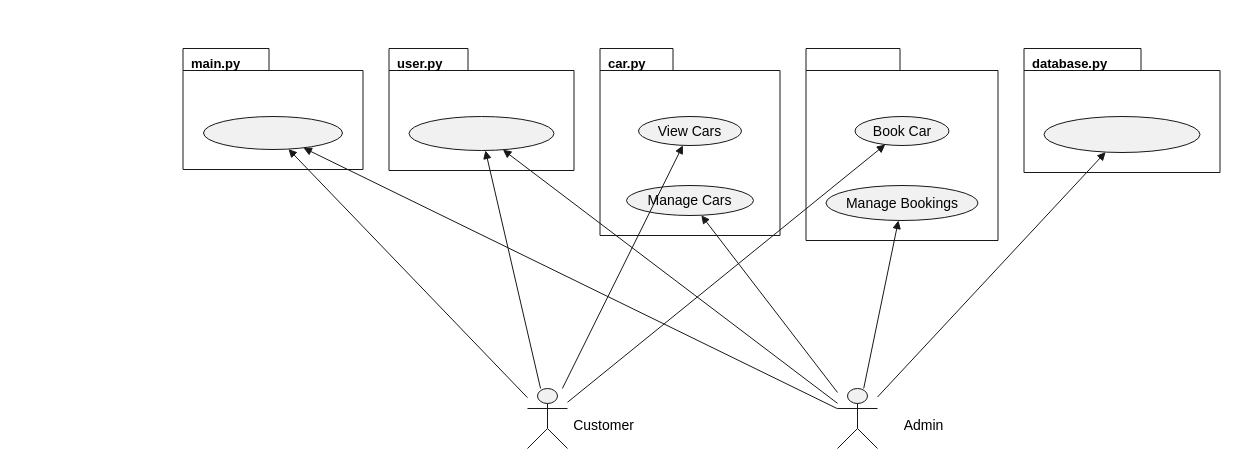
Image size: 1237x466. Some labels were removed from this diagram. Each missing label, with the box of its shape:
Login / Register: (408, 116, 554, 150)
Navigate Menu: (202, 116, 342, 150)
rental.py: (805, 48, 998, 240)
Sync & Store Data: (1043, 116, 1200, 152)
